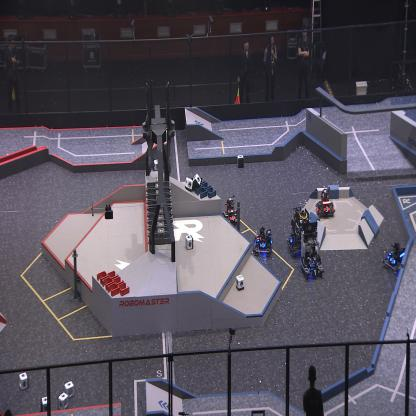car: (300, 220, 324, 280), (287, 206, 311, 259), (384, 241, 408, 276), (315, 186, 335, 219), (253, 225, 272, 259), (221, 195, 240, 226)
